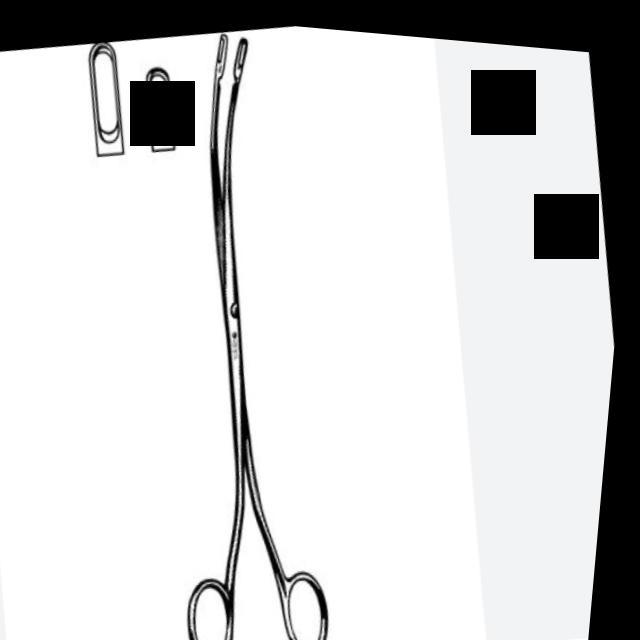Desjardin Forceps: (92, 13, 390, 640)
